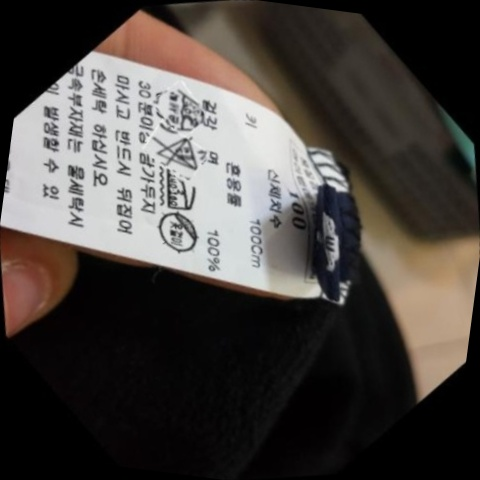hand_wash: (155, 79, 211, 137)
iron_medium: (158, 166, 207, 216)
line_dry_in_shade: (148, 201, 211, 263)
non_chlorine_bleach: (150, 129, 205, 177)
